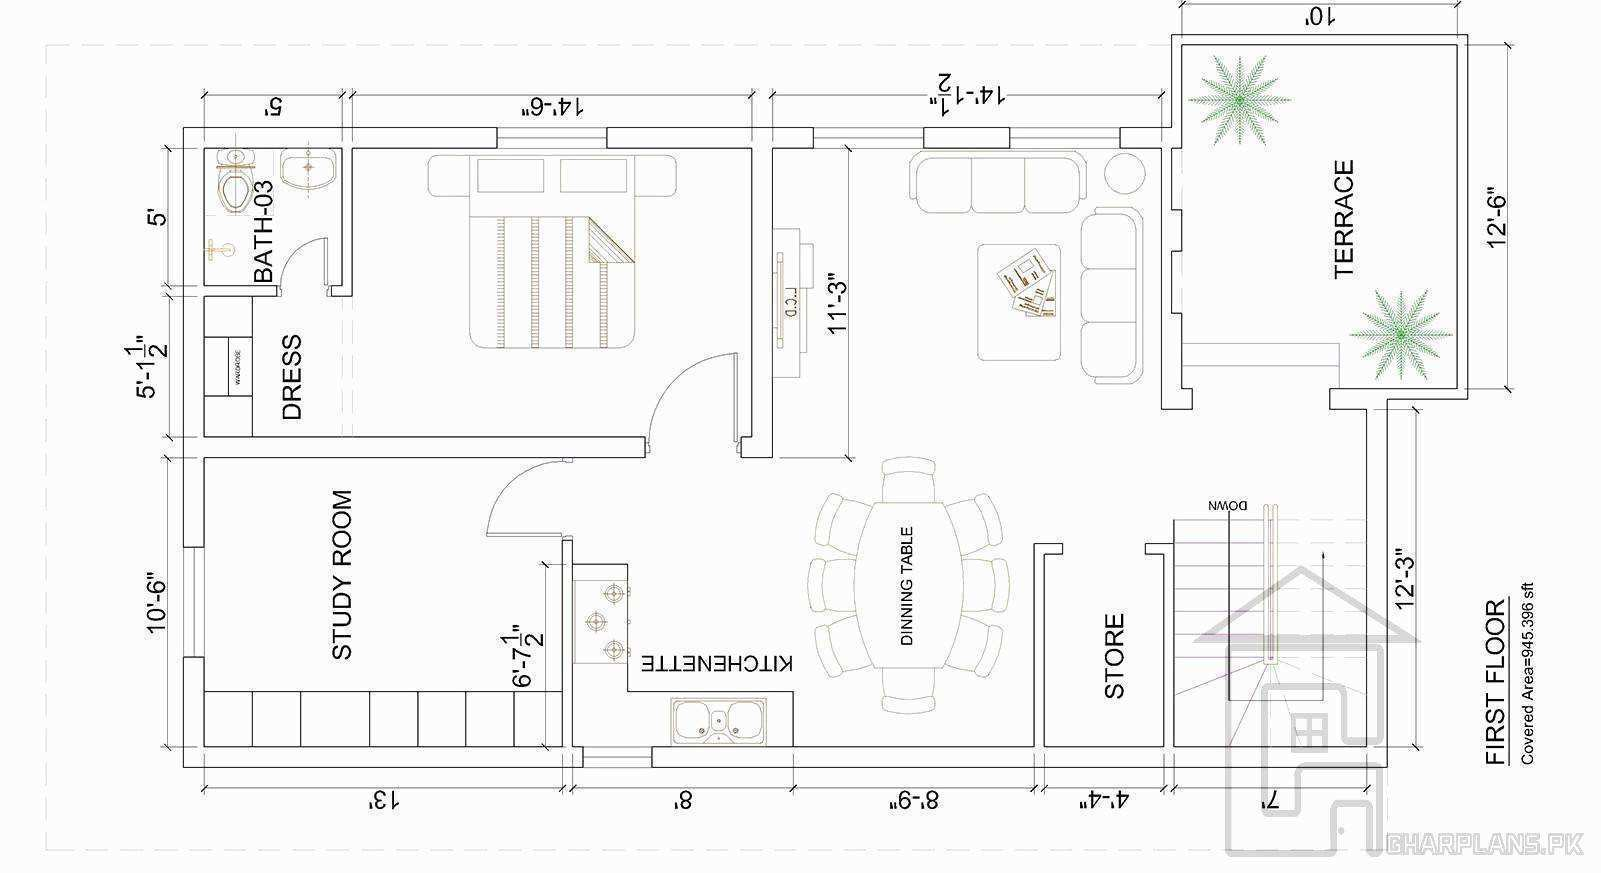door: (641, 333, 745, 486), (468, 461, 585, 538)
window: (175, 545, 222, 661), (493, 120, 614, 148)
